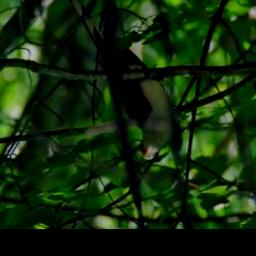Cuckoo: (56, 0, 179, 163)
